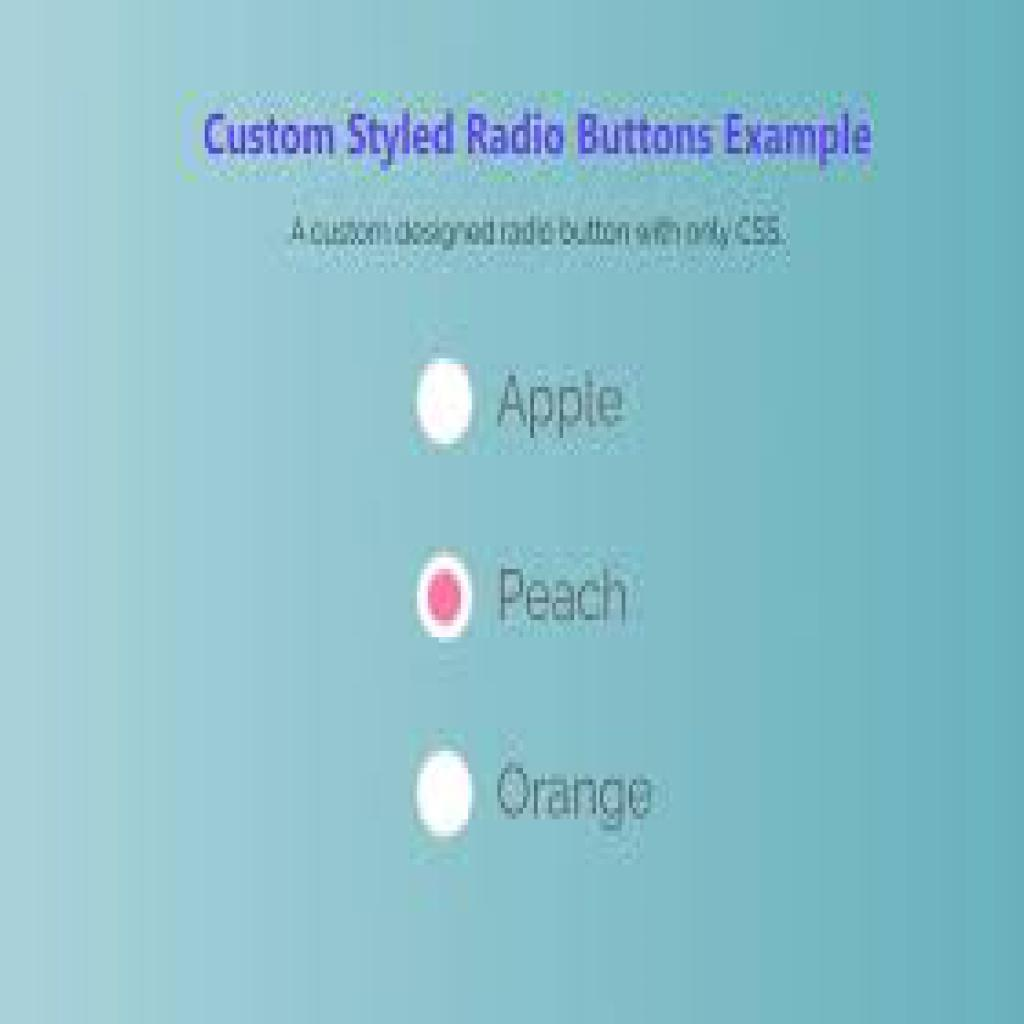radio: (413, 533, 477, 664), (413, 739, 478, 855), (414, 347, 479, 453), (405, 734, 406, 735)
